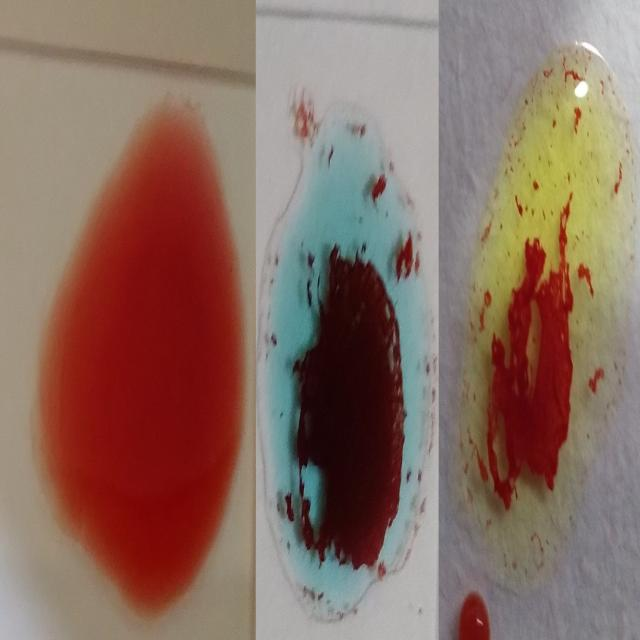A: (258, 94, 432, 628)
B: (458, 51, 626, 577)
